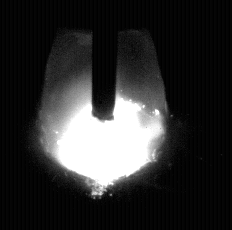arame: (92, 0, 117, 121)
poca: (40, 0, 167, 230)
